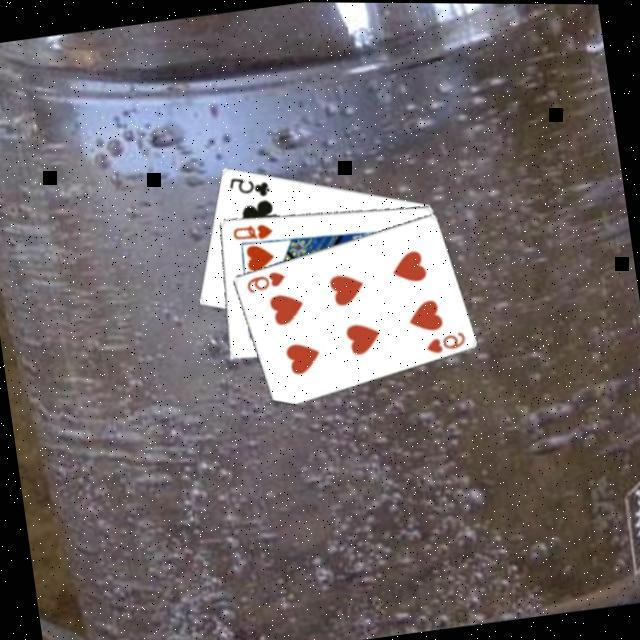5C: (224, 167, 274, 200)
6H: (242, 264, 290, 294), (422, 324, 469, 354)
QH: (228, 216, 276, 244)
